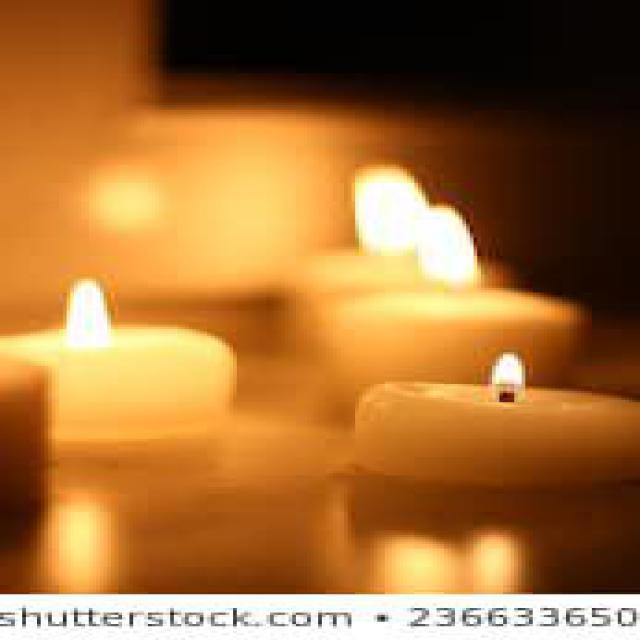Fire: (354, 162, 476, 284), (65, 279, 113, 352), (492, 351, 529, 402)
